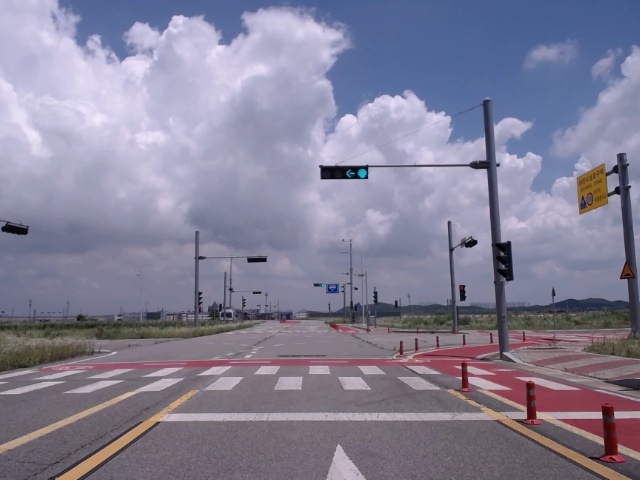all_green_4: (318, 165, 369, 177)
